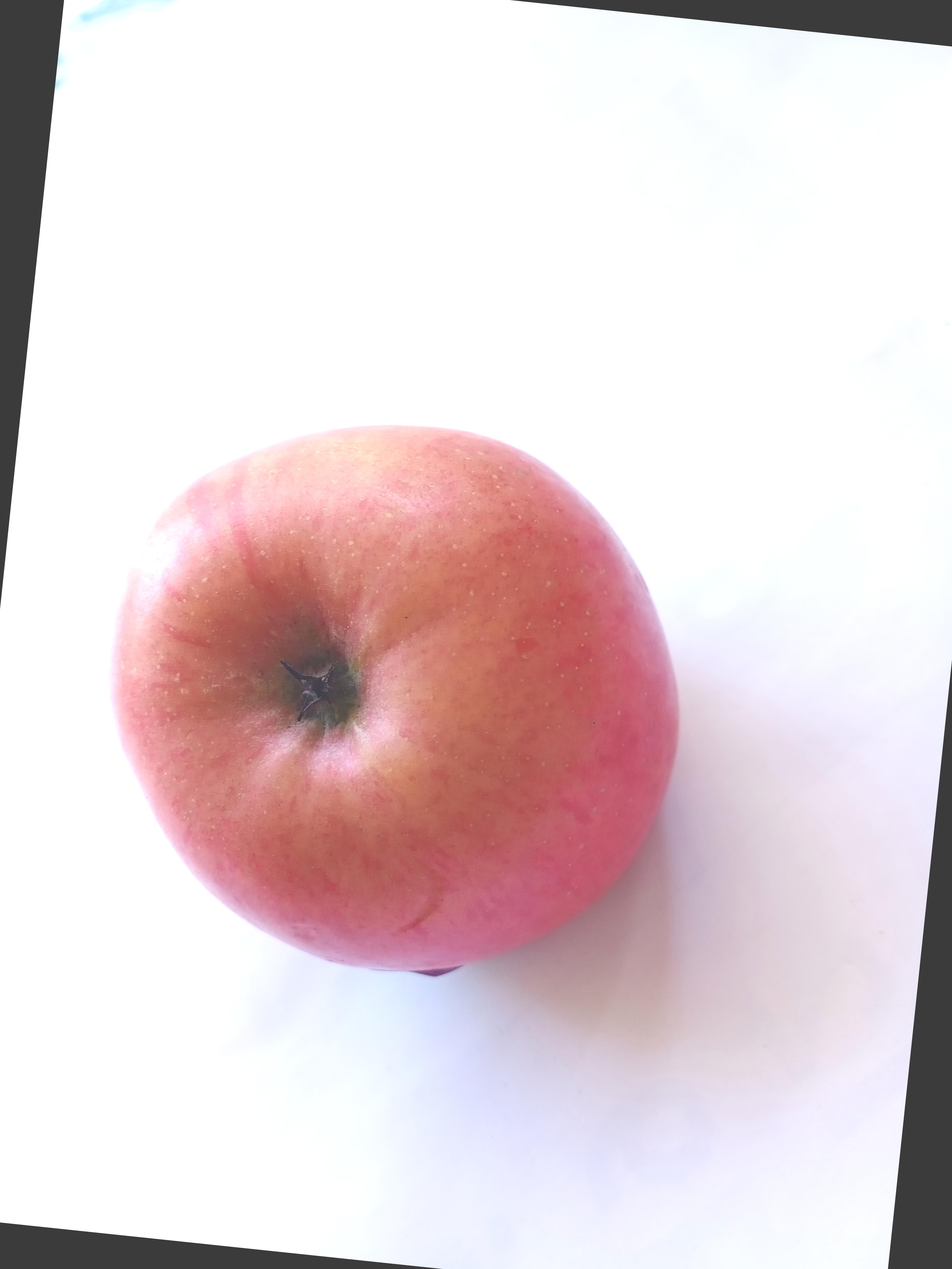Apple Ripe: (142, 314, 822, 978)
